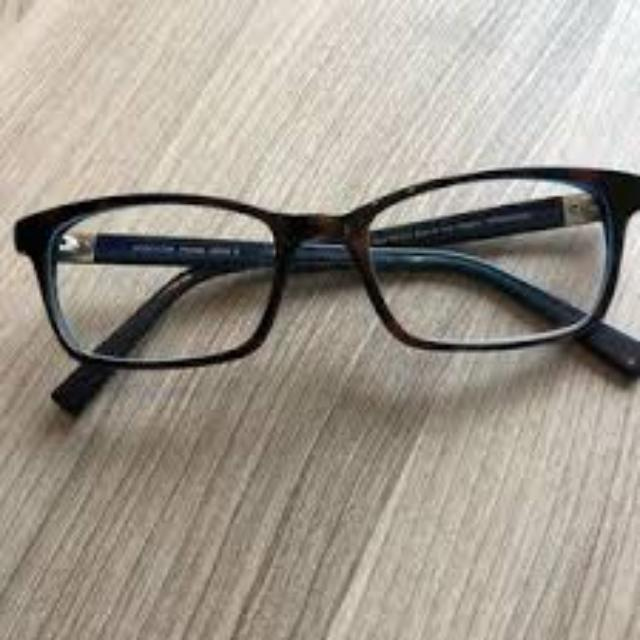glasses: (12, 160, 640, 418)
